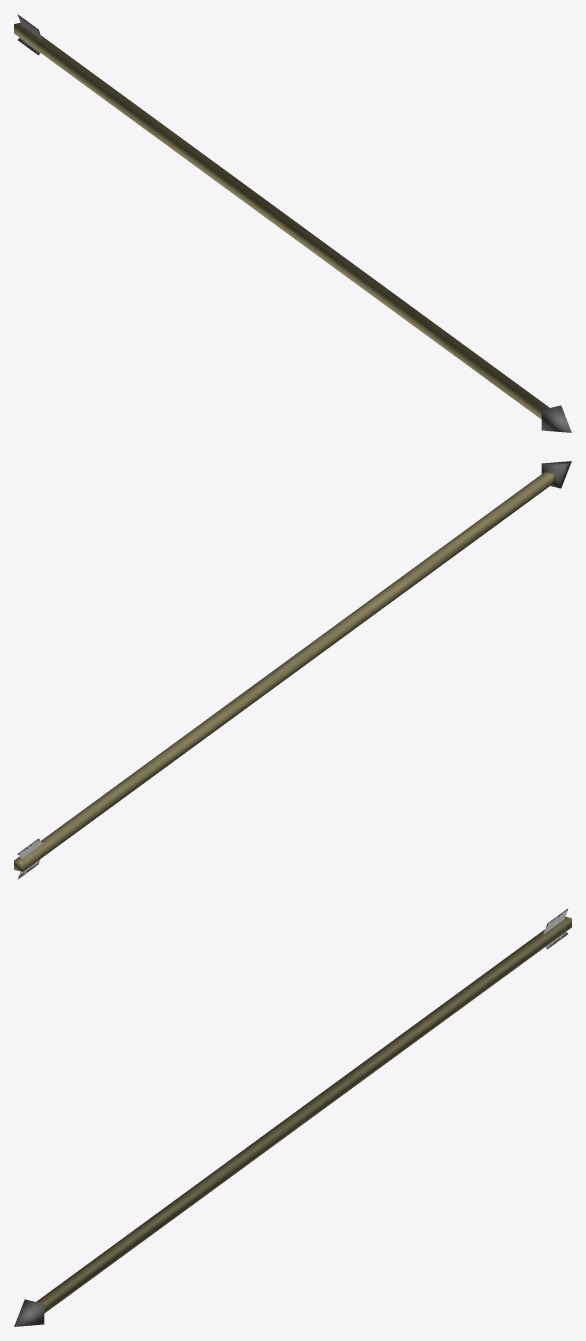
Rendered from shortarrow.fbx.
3 renders of one model, top to bottom at view 1: azimuth 30°, elevation 25°; view 2: azimuth 150°, elevation 25°; view 3: azimuth 330°, elevation 25°, orthographic.
Parts seen in each view (by area): view 1: arrow_short; view 2: arrow_short; view 3: arrow_short.
Part boxes in pixels (<box>): arrow_short: <box>14,14,571,432</box>; arrow_short: <box>14,461,571,879</box>; arrow_short: <box>14,908,571,1326</box>.
Size of the model in its own units: 0.0145 by 0.0185 by 0.7121.
